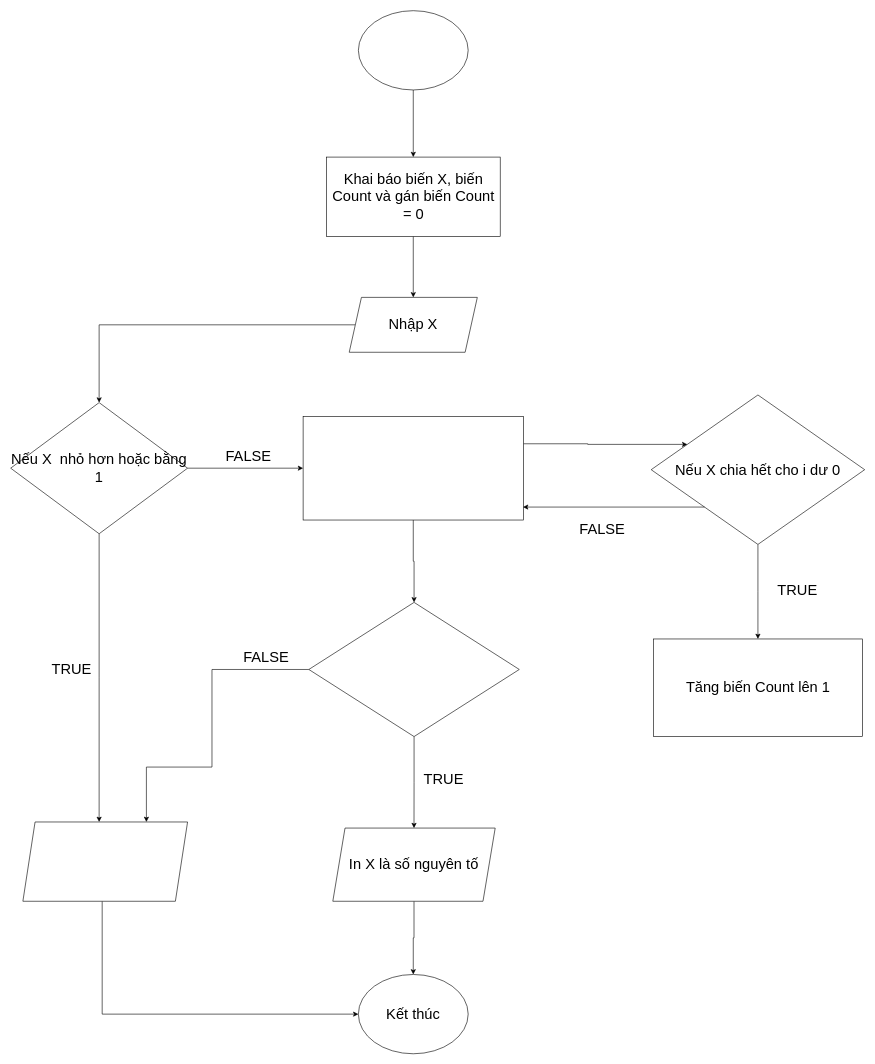
Image size: 875x1064. Some labels were removed from this diagram. Here are the shapes that lost their labels. From the top down, the centre of each, then its label:
At (413,50): "Bắt đầu".
At (412,468): "Dùng vòng lặp for, khai báo biến i = 0, lặp đến khi i nhỏ hơn hoặc bằng căn X".
At (413,669): "Nếu biến Count có giá trị là 0".
At (105,861): "In X không phải là số nguyên tố".
